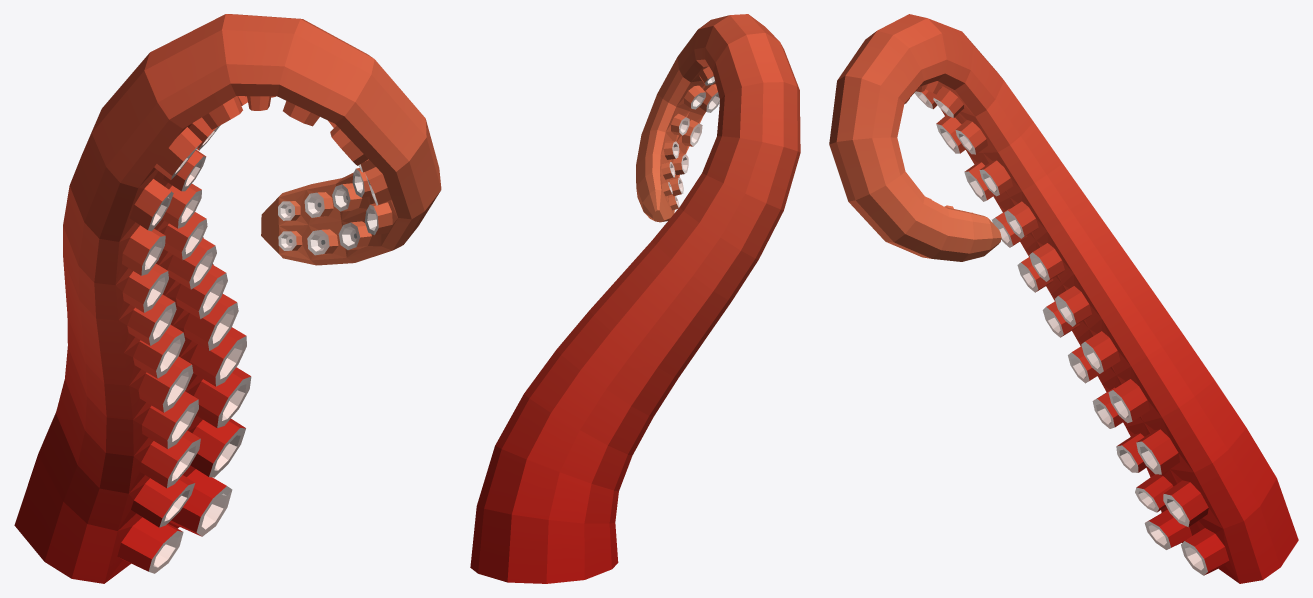
Rendered from tentacles-6.glb.
3 views of the same model, side by side, from view 1: azimuth 30°, elevation 25°; view 2: azimuth 150°, elevation 25°; view 3: azimuth 270°, elevation 25° (orthographic). The views are drawn at different scales.
Parts seen in each view (by area): view 1: tentacles 6; view 2: tentacles 6; view 3: tentacles 6.
Boxes of the visible parts, left/top/right/bottom form: tentacles 6: left=14, top=14, right=441, bottom=583; tentacles 6: left=470, top=14, right=800, bottom=583; tentacles 6: left=829, top=14, right=1298, bottom=583.
Size of the model in its own units: 4.91 by 10.99 by 9.37.
Materials: 1 (1 with a texture image).
